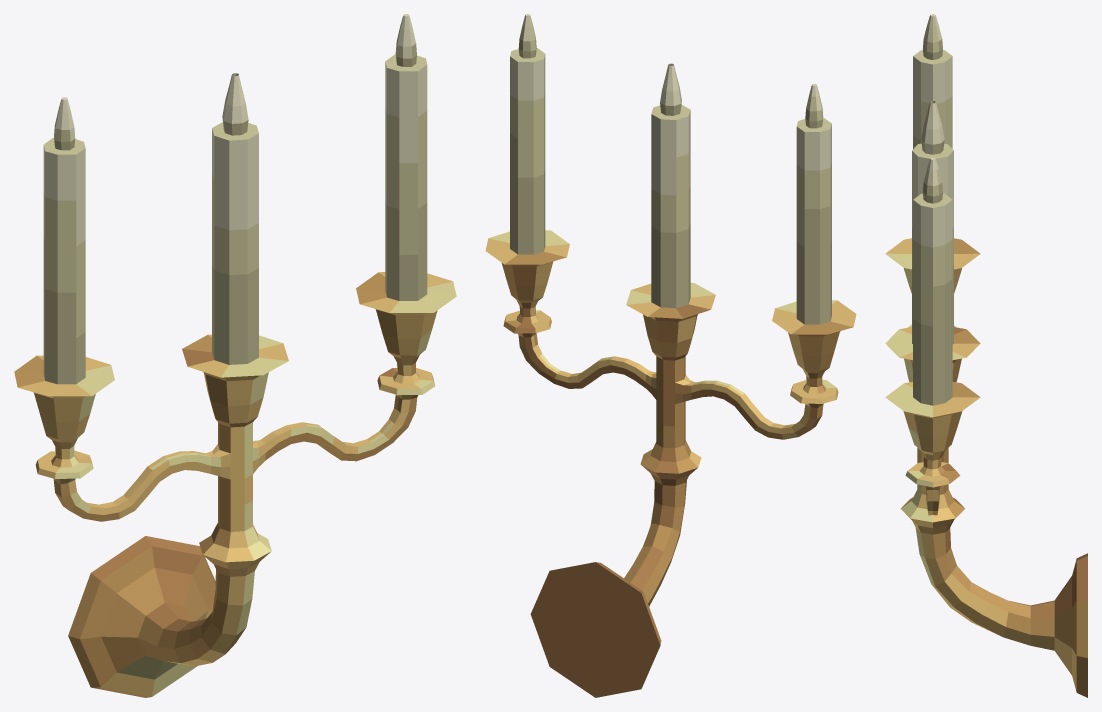
The model's file is canC.glb.
The picture shows the model from 3 angles, left to right: view 1: azimuth 30°, elevation 25°; view 2: azimuth 150°, elevation 25°; view 3: azimuth 270°, elevation 25°; orthographic projection. The views are drawn at different scales.
Visible parts, largest first — view 1: Cylinder; view 2: Cylinder; view 3: Cylinder.
Boxes of the visible parts, x1,y1,x2,y2 form: Cylinder: [14, 14, 456, 697]; Cylinder: [485, 14, 856, 697]; Cylinder: [885, 14, 1087, 697].
Bounding box in the file's own units: 4.01 × 6.22 × 1.88.
